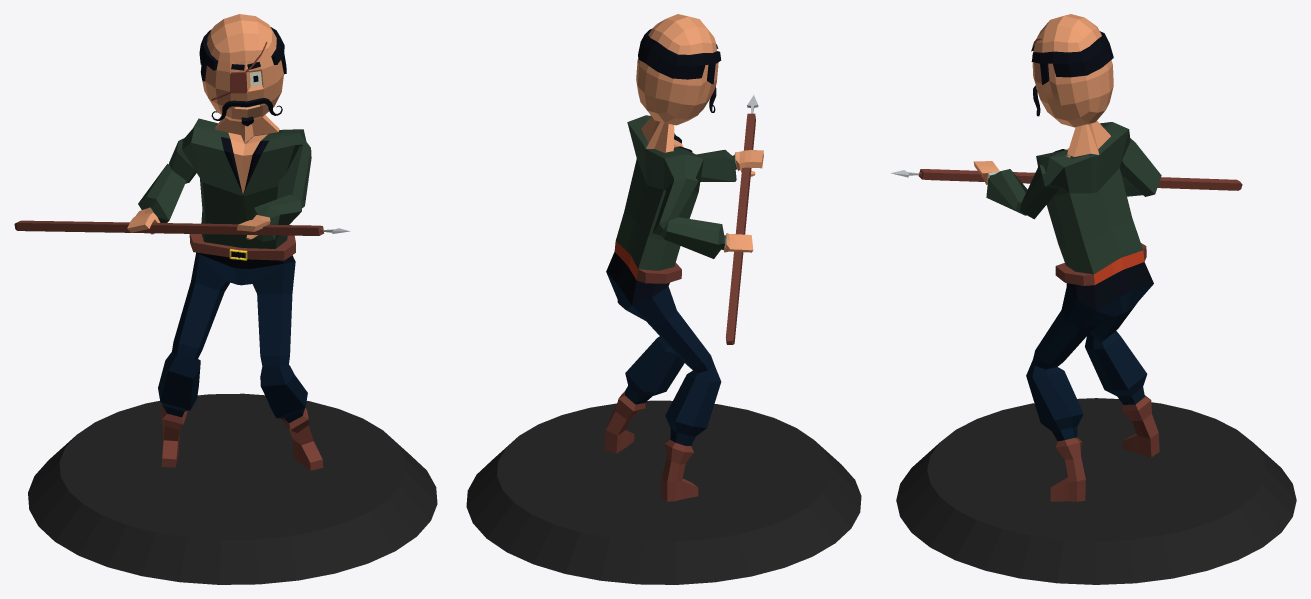
The model's file is Enemy 3.fbx.
3 renders of one model, left to right at view 1: azimuth 30°, elevation 25°; view 2: azimuth 150°, elevation 25°; view 3: azimuth 270°, elevation 25°, orthographic. The views are drawn at different scales.
Visible parts, largest first — view 1: Cilindro, Cubo.002, Cubo; view 2: Cilindro, Cubo.002, Cubo; view 3: Cilindro, Cubo.002, Cubo.
Part boxes in pixels (bbox=[...]): Cilindro: bbox=[28, 393, 437, 584]; Cubo.002: bbox=[127, 14, 323, 470]; Cubo: bbox=[14, 220, 349, 235]; Cilindro: bbox=[466, 400, 861, 584]; Cubo.002: bbox=[604, 14, 763, 501]; Cubo: bbox=[725, 95, 758, 344]; Cilindro: bbox=[896, 398, 1296, 584]; Cubo.002: bbox=[973, 14, 1161, 501]; Cubo: bbox=[891, 169, 1242, 190].
Size of the model in its own units: 154 by 204 by 156.
